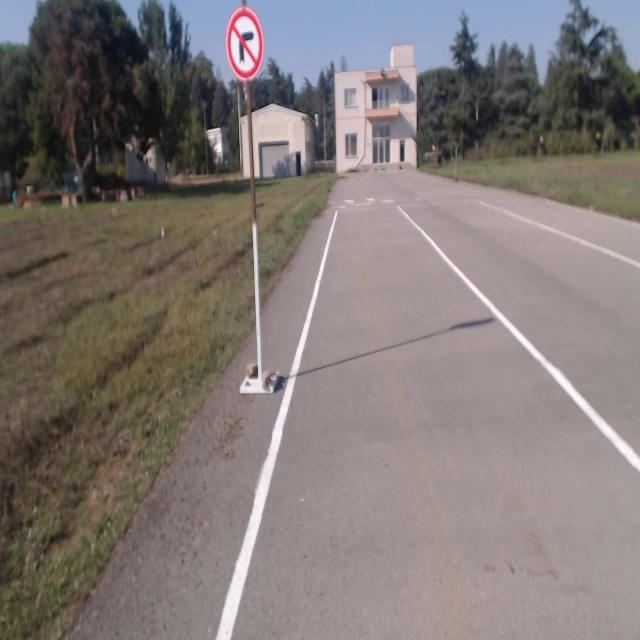sagadonulmez: (227, 12, 262, 73)
